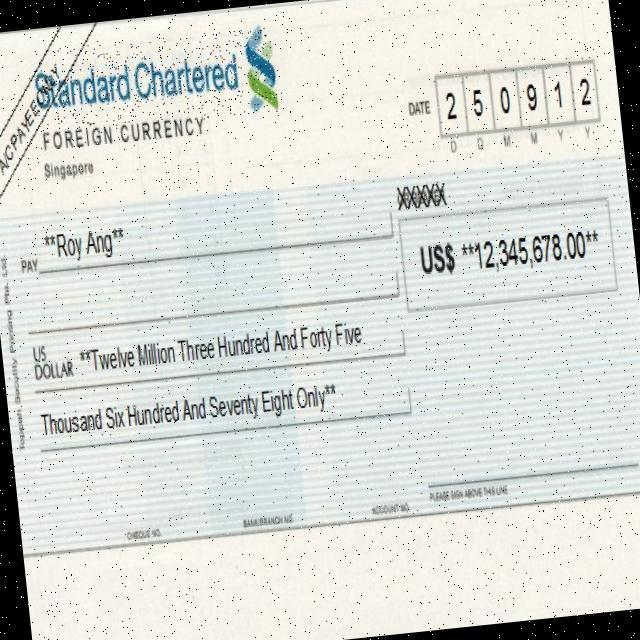Standard Chartered: (32, 26, 280, 137)
